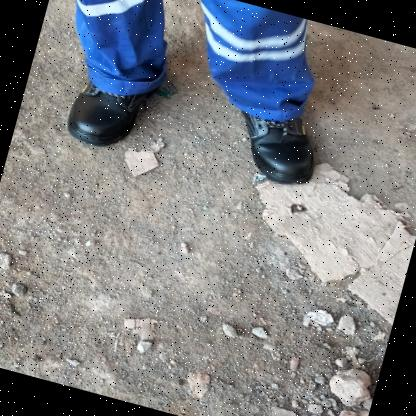bota: (221, 96, 334, 190), (60, 67, 150, 157)
